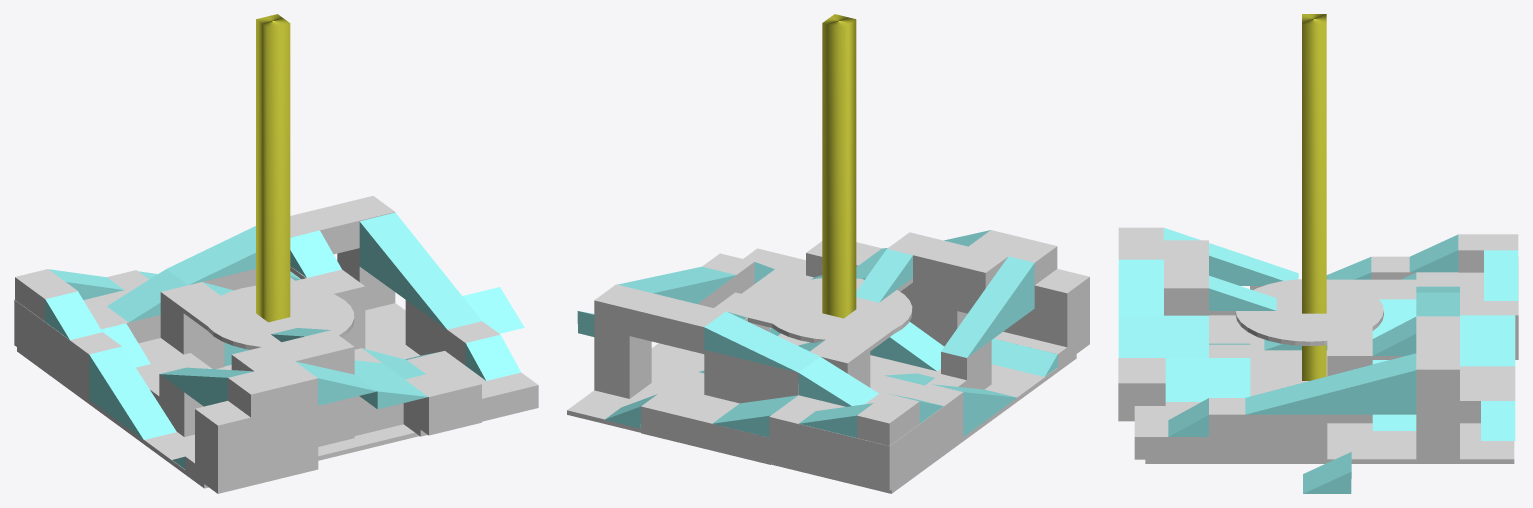
File: level_stage2_col.glb
The picture shows the model from 3 angles, left to right: view 1: azimuth 30°, elevation 25°; view 2: azimuth 150°, elevation 25°; view 3: azimuth 270°, elevation 25°; orthographic projection.
Parts seen in each view (by area): view 1: col_平台.130, col_平台.116, ramp_平台.062, ramp_平台.050, colcyl_平台.001, col_平台.099, col_平台.108, col_平台.124, col_平台.126, col_平台.106, col_平台.122, col_平台.128 (+26 smaller); view 2: col_平台.130, col_平台.125, col_平台.099, col_平台.122, col_平台.129, col_平台.108, col_平台.128, colcyl_平台.001, ramp_平台.036, col_平台.116, ramp_平台.042, col_平台.119 (+26 smaller); view 3: col_平台.130, col_平台.122, ramp_平台.062, colcyl_平台.001, ramp_平台.053, col_平台.115, col_平台.126, col_平台.128, ramp_平台.044, col_平台.100, ramp_平台.046, col_平台.107 (+28 smaller).
Boxes of the visible parts, x1=… form: col_平台.130: x1=256, y1=14, x2=290, y2=322; col_平台.116: x1=195, y1=401, x2=318, y2=493; ramp_平台.062: x1=359, y1=212, x2=481, y2=329; ramp_平台.050: x1=89, y1=346, x2=176, y2=439; colcyl_平台.001: x1=205, y1=285, x2=354, y2=349; col_平台.099: x1=14, y1=300, x2=121, y2=399; col_平台.108: x1=272, y1=330, x2=354, y2=446; col_平台.124: x1=405, y1=366, x2=481, y2=435; col_平台.126: x1=403, y1=351, x2=538, y2=436; col_平台.106: x1=160, y1=282, x2=224, y2=369; col_平台.122: x1=17, y1=303, x2=419, y2=446; col_平台.128: x1=290, y1=196, x2=395, y2=250; col_平台.130: x1=822, y1=14, x2=856, y2=318; col_平台.125: x1=641, y1=370, x2=771, y2=464; col_平台.099: x1=857, y1=384, x2=963, y2=490; col_平台.122: x1=567, y1=335, x2=1023, y2=493; col_平台.129: x1=788, y1=393, x2=938, y2=490; col_平台.108: x1=887, y1=232, x2=967, y2=346; col_平台.128: x1=594, y1=284, x2=725, y2=349; colcyl_平台.001: x1=763, y1=278, x2=912, y2=343; ramp_平台.036: x1=941, y1=256, x2=1034, y2=357; col_平台.116: x1=1003, y1=269, x2=1089, y2=358; ramp_平台.042: x1=704, y1=311, x2=819, y2=372; col_平台.119: x1=704, y1=350, x2=798, y2=403; col_平台.130: x1=1302, y1=14, x2=1326, y2=380; col_平台.122: x1=1250, y1=336, x2=1514, y2=463; ramp_平台.062: x1=1245, y1=353, x2=1416, y2=414; colcyl_平台.001: x1=1235, y1=279, x2=1383, y2=345; ramp_平台.053: x1=1118, y1=315, x2=1208, y2=357; col_平台.115: x1=1250, y1=414, x2=1327, y2=463; col_平台.126: x1=1134, y1=402, x2=1249, y2=459; col_平台.128: x1=1416, y1=316, x2=1459, y2=392; ramp_平台.044: x1=1460, y1=315, x2=1515, y2=366; col_平台.100: x1=1416, y1=396, x2=1459, y2=459; ramp_平台.046: x1=1118, y1=259, x2=1163, y2=315; col_平台.107: x1=1209, y1=398, x2=1250, y2=463.
Bounding box in the file's own units: 92.03 × 86.87 × 80.91.
